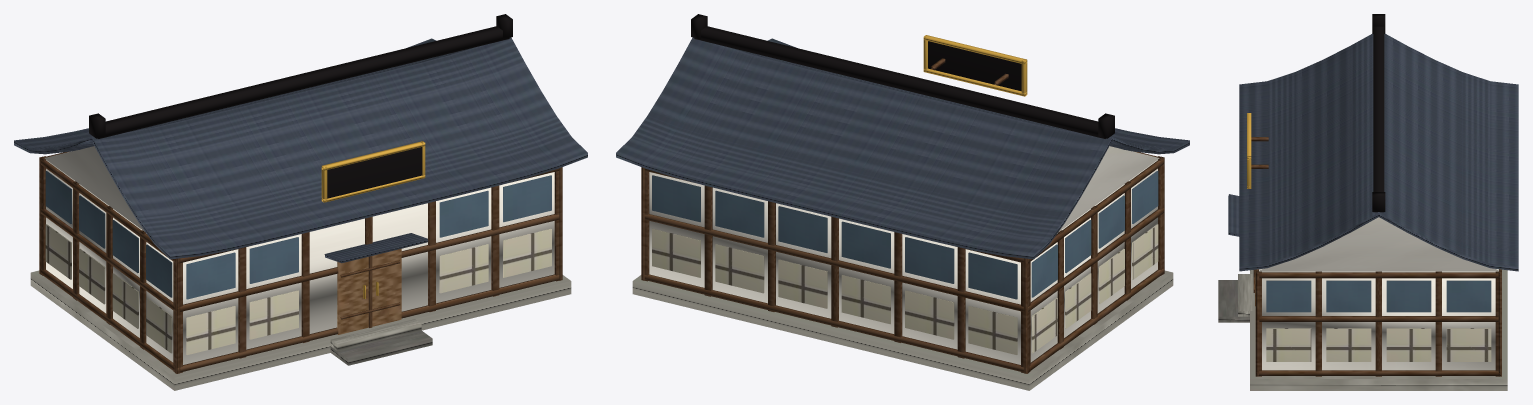
Rendered from ansarooffice.glb.
3 views of the same model, side by side, from view 1: azimuth 30°, elevation 25°; view 2: azimuth 150°, elevation 25°; view 3: azimuth 270°, elevation 25° (orthographic). The views are drawn at different scales.
Parts seen in each view (by area): view 1: AnsaroOffice_Roof, AnsaroOffice_Walls, AnsaroOffice_Foundation, AnsaroOffice_Door, AnsaroOffice_Logo, AnsaroOffice_LogoFrame; view 2: AnsaroOffice_Roof, AnsaroOffice_Walls, AnsaroOffice_Foundation, AnsaroOffice_Logo, AnsaroOffice_LogoFrame; view 3: AnsaroOffice_Roof, AnsaroOffice_Walls, AnsaroOffice_Foundation, AnsaroOffice_Door, AnsaroOffice_LogoFrame.
Part boxes in pixels (<box>): AnsaroOffice_Roof: <box>14,14,587,259</box>; AnsaroOffice_Walls: <box>39,151,562,373</box>; AnsaroOffice_Foundation: <box>30,270,571,390</box>; AnsaroOffice_Door: <box>324,233,428,334</box>; AnsaroOffice_Logo: <box>327,147,422,198</box>; AnsaroOffice_LogoFrame: <box>321,141,425,202</box>; AnsaroOffice_Roof: <box>616,14,1189,259</box>; AnsaroOffice_Walls: <box>641,151,1164,373</box>; AnsaroOffice_Foundation: <box>632,270,1173,390</box>; AnsaroOffice_Logo: <box>928,41,1021,91</box>; AnsaroOffice_LogoFrame: <box>923,35,1027,96</box>; AnsaroOffice_Roof: <box>1239,14,1518,271</box>; AnsaroOffice_Walls: <box>1255,269,1501,376</box>; AnsaroOffice_Foundation: <box>1218,269,1507,390</box>; AnsaroOffice_Door: <box>1228,194,1255,306</box>; AnsaroOffice_LogoFrame: <box>1247,113,1251,188</box>.
Bounding box in the file's own units: 39.6 × 20.15 × 27.5.
1 material, 1 textured.
